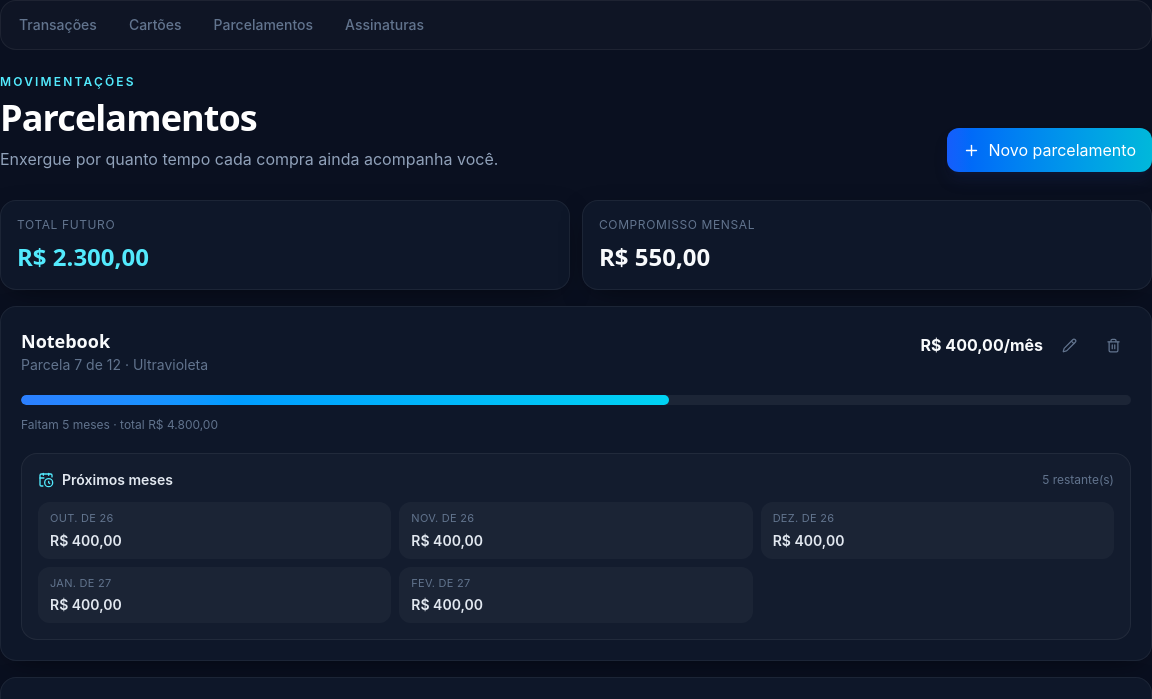
Test: edits and deletes an installment
The width and height of the screenshot is (1152, 699).
Step 1. Click the button named "Editar Notebook" → (1069, 345), box x1=1051 y1=327 x2=1087 y2=363
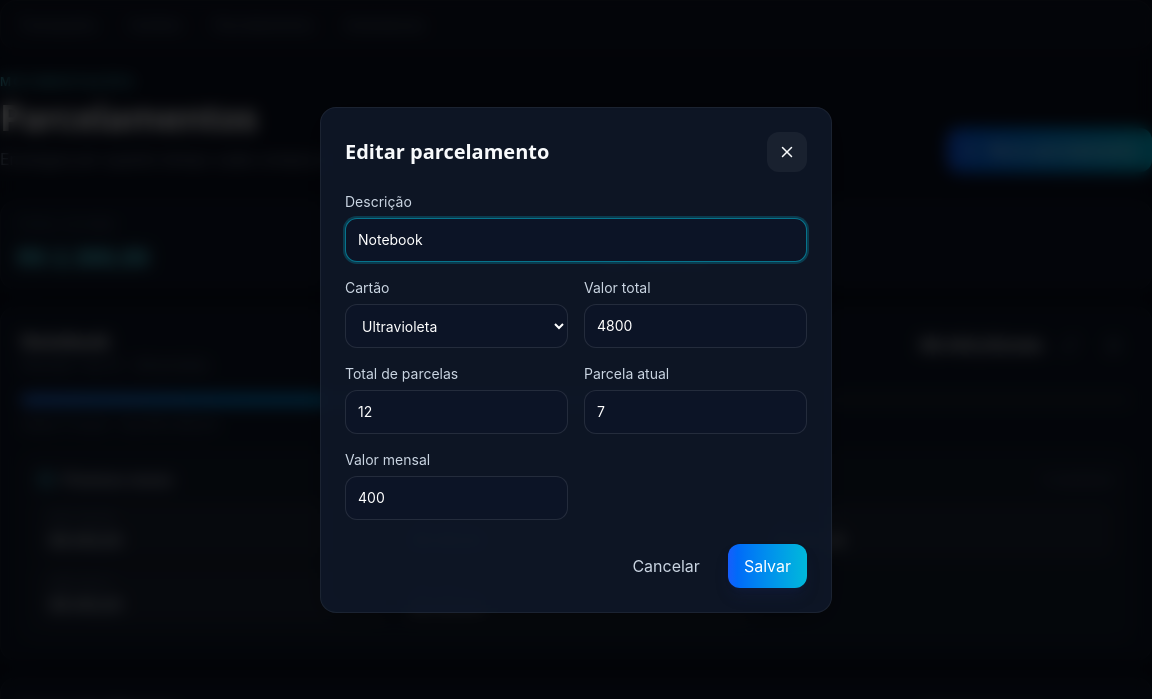
Step 2. Replace the text in the field labelled "Descrição" with "Notebook trabalho" → (576, 240), box x1=345 y1=218 x2=807 y2=262
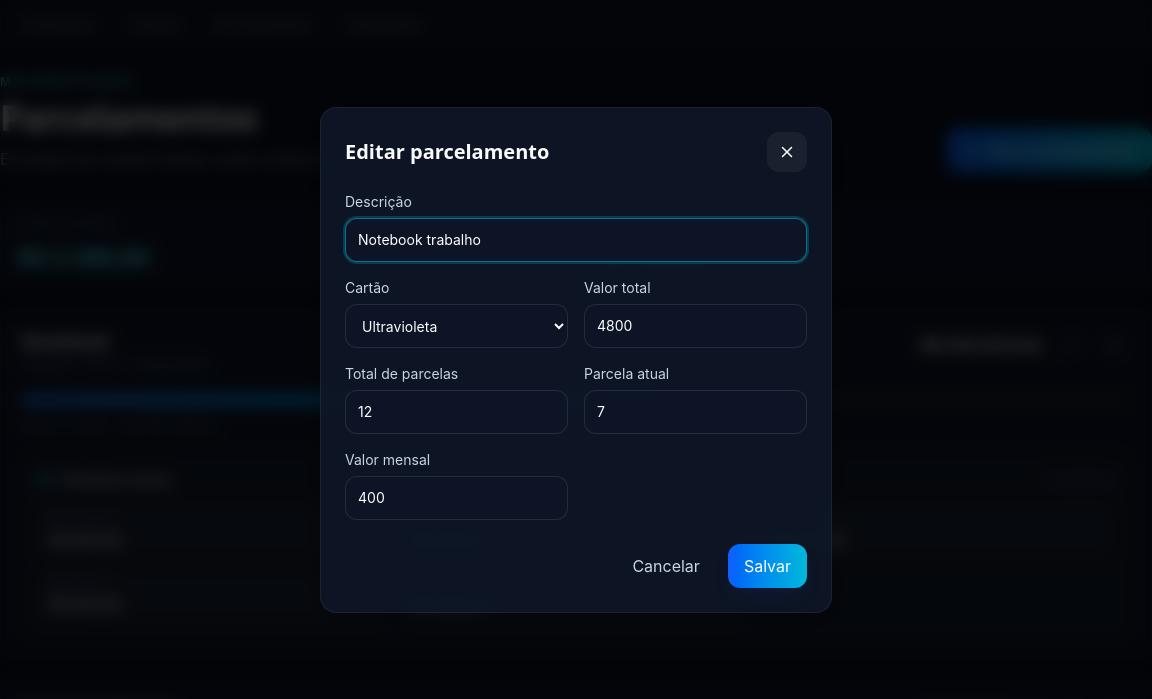
Step 3. Click the button "Salvar" → (767, 566), box x1=728 y1=544 x2=807 y2=588
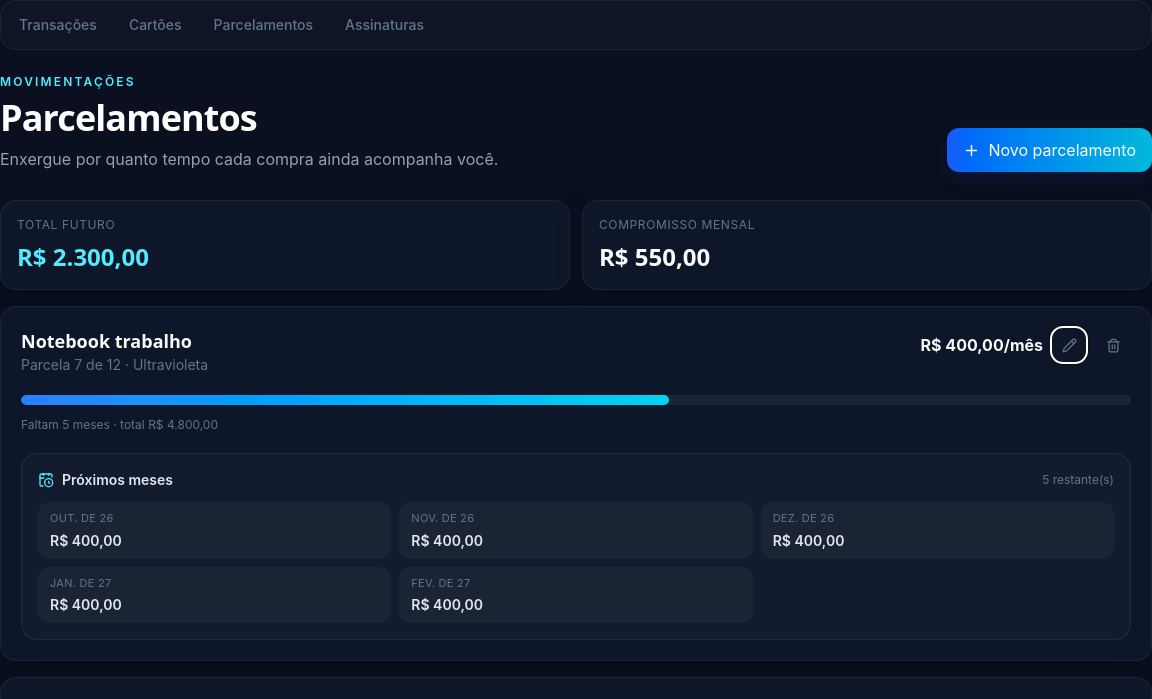
Expected: the heading "Notebook trabalho" is shown, x1=21 y1=327 x2=208 y2=355
Step 4. Click the button named "Excluir Notebook trabalho" → (1113, 345), box x1=1095 y1=327 x2=1131 y2=363
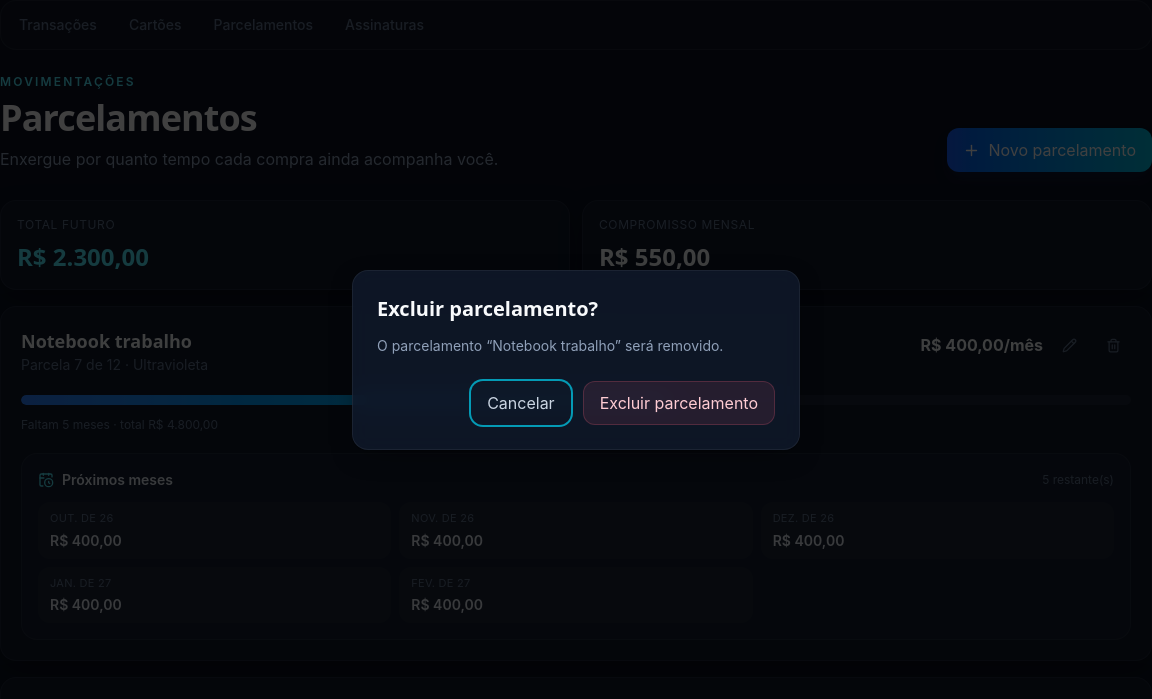
Expected: the dialog "Excluir parcelamento?" is shown, x1=352 y1=270 x2=800 y2=450
Step 5. Click the button "Excluir parcelamento" → (679, 403), box x1=583 y1=381 x2=775 y2=425
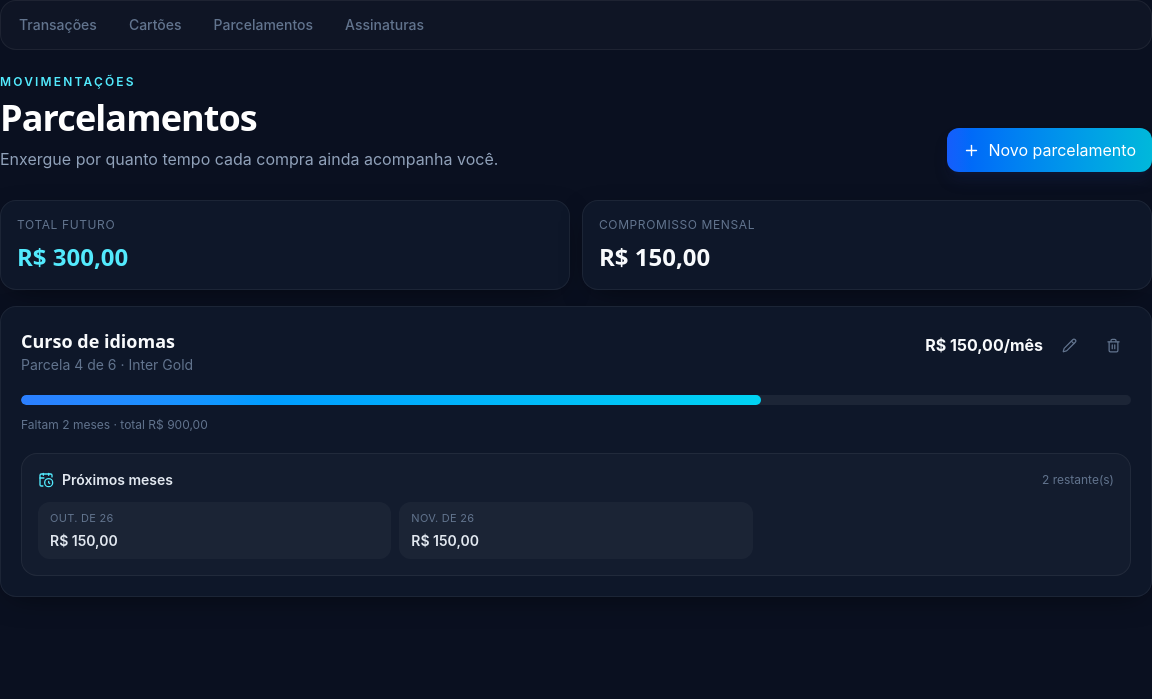
Expected: the heading "Notebook trabalho" is gone
